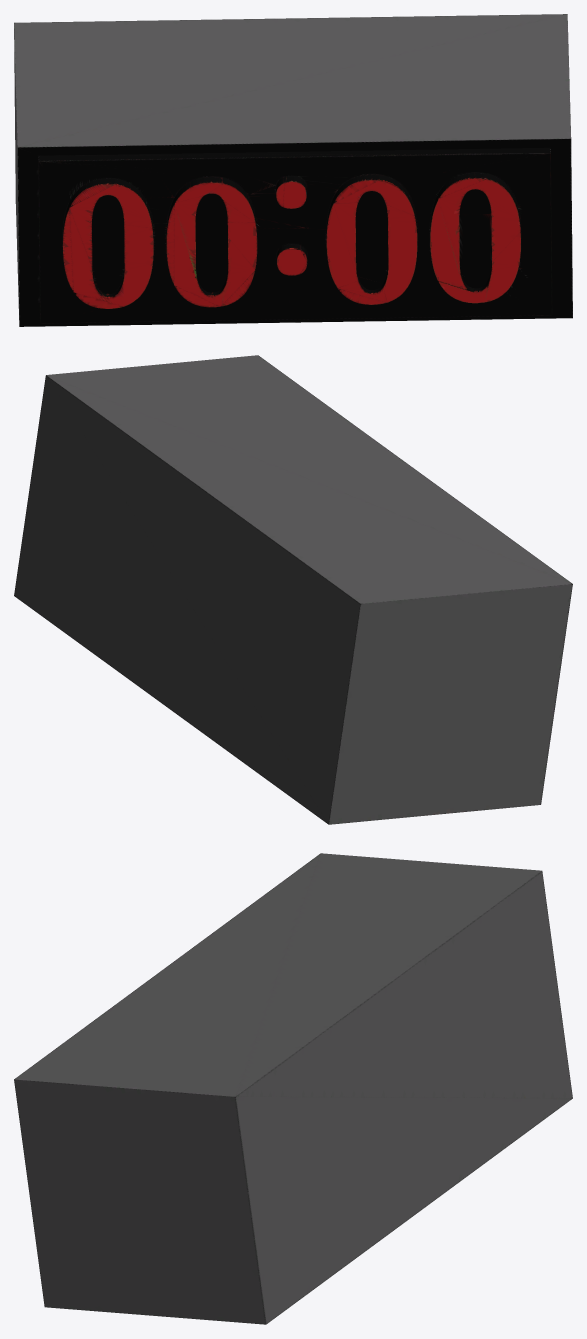
The model's file is Digitālais pulkstenis.glb.
3 renders of one model, top to bottom at view 1: azimuth 30°, elevation 25°; view 2: azimuth 150°, elevation 25°; view 3: azimuth 270°, elevation 25°, orthographic. The views are drawn at different scales.
Parts seen in each view (by area): view 1: node_id8; view 2: node_id8; view 3: node_id8.
Boxes of the visible parts, x1=… form: node_id8: x1=14, y1=14, x2=572, y2=326; node_id8: x1=14, y1=355, x2=572, y2=824; node_id8: x1=14, y1=853, x2=572, y2=1324.
Size of the model in its own units: 0.5039 by 0.2087 by 0.4066.
1 material, 1 textured.
